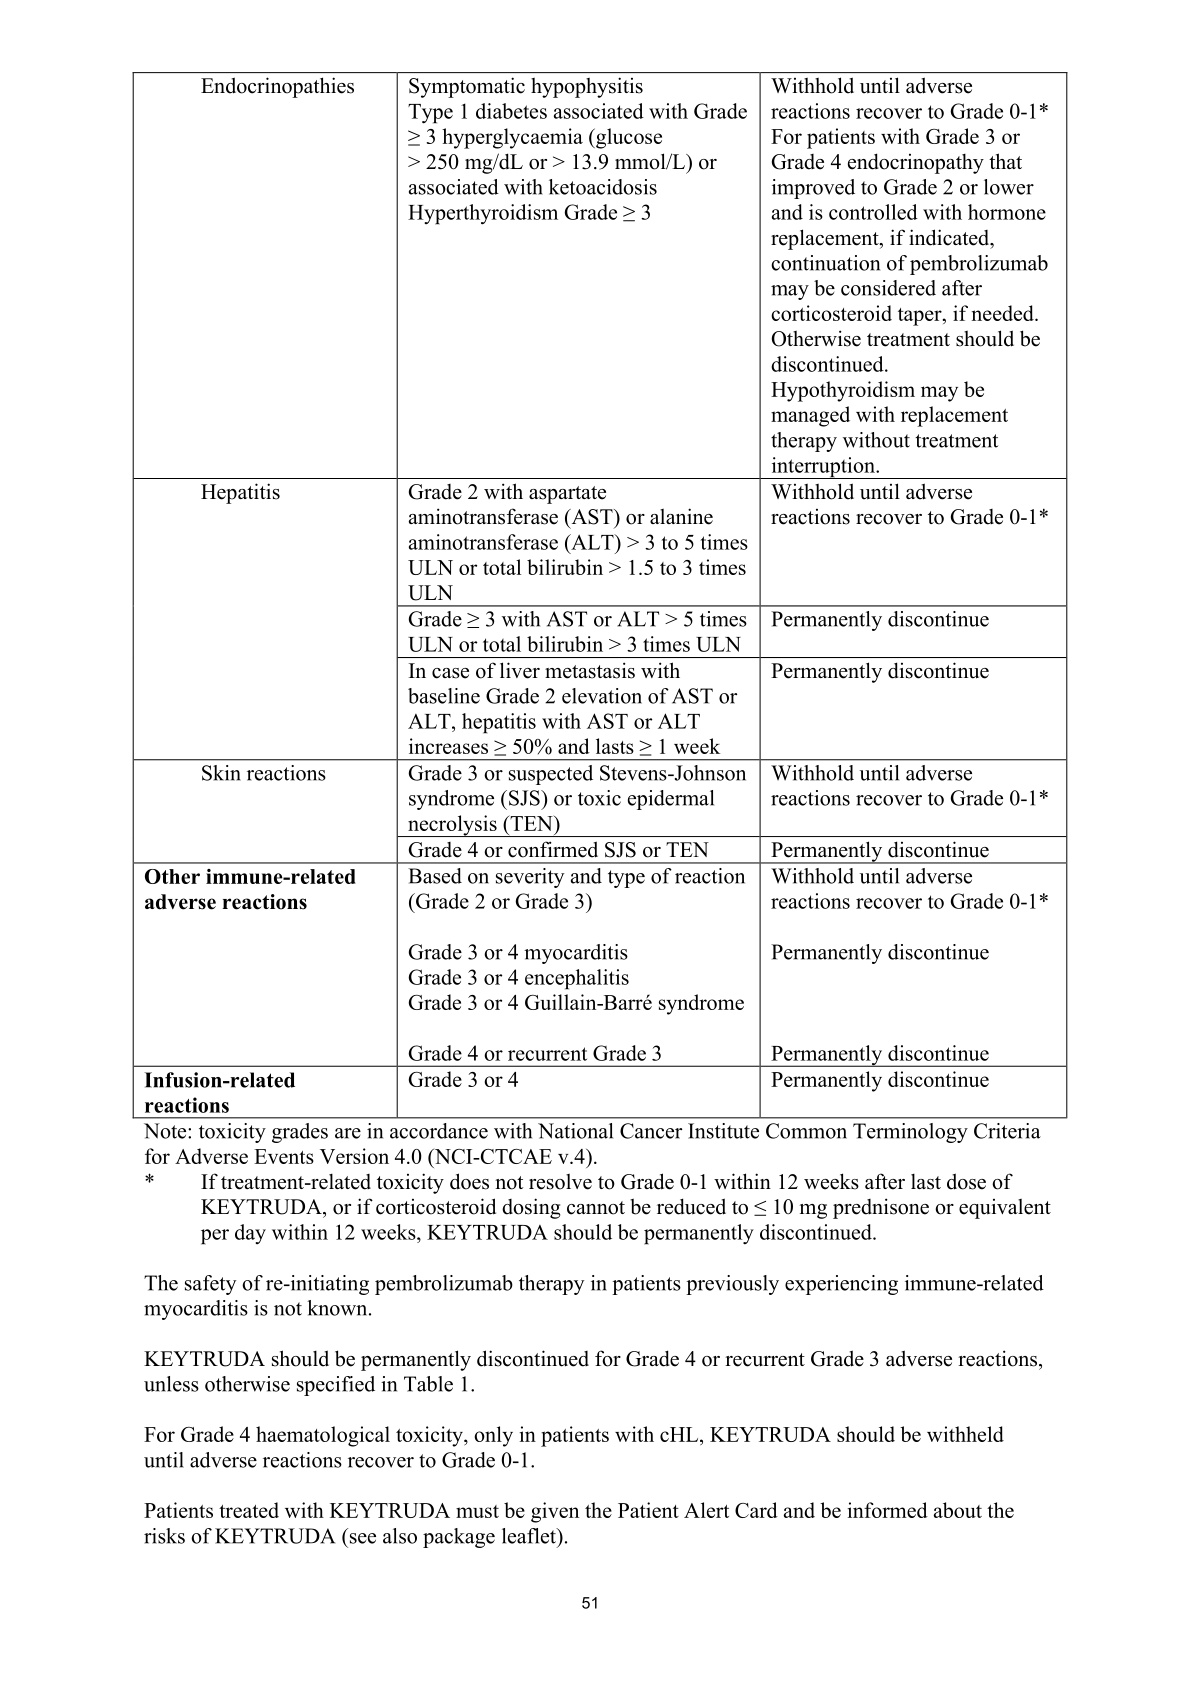merged_cells: (131, 70, 1069, 1118)
